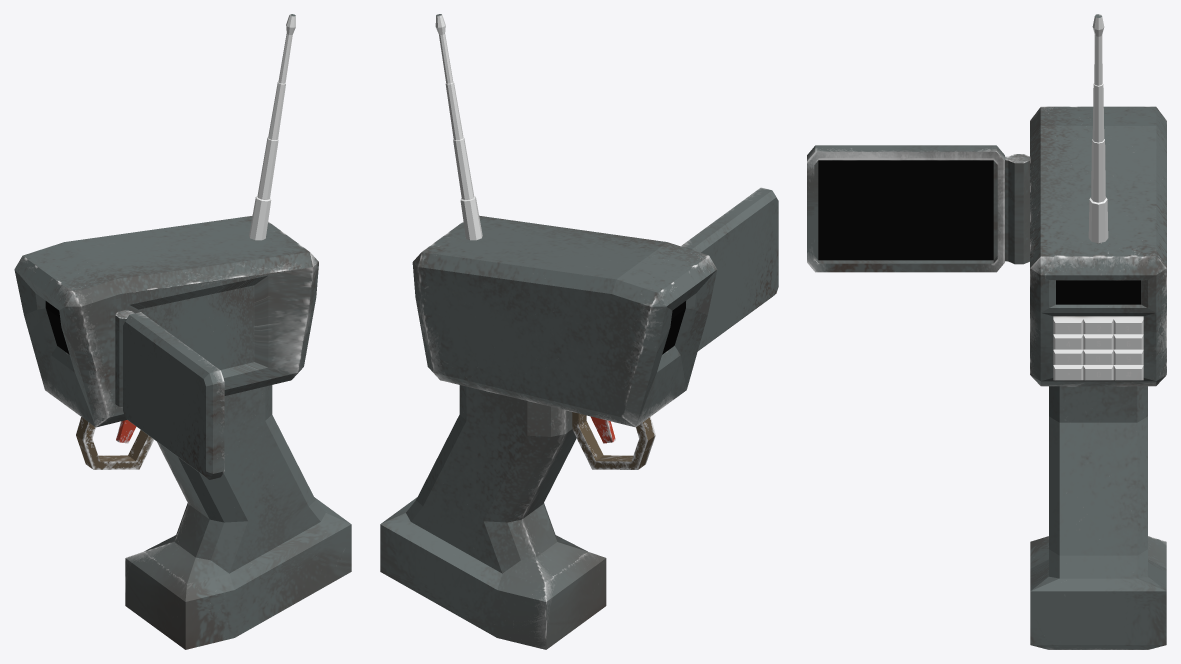
Rendered from Textured PVTM.fbx.
3 renders of one model, left to right at view 1: azimuth 30°, elevation 25°; view 2: azimuth 150°, elevation 25°; view 3: azimuth 270°, elevation 25°, orthographic. The views are drawn at different scales.
Visible parts, largest first — view 1: Cube; view 2: Cube; view 3: Cube.
Boxes of the visible parts, bbox=[...] form: Cube: bbox=[14, 14, 351, 649]; Cube: bbox=[380, 14, 778, 649]; Cube: bbox=[807, 14, 1166, 649].
Bounding box in the file's own units: 411 × 817 × 402.
Materials: 3 (2 with a texture image).
